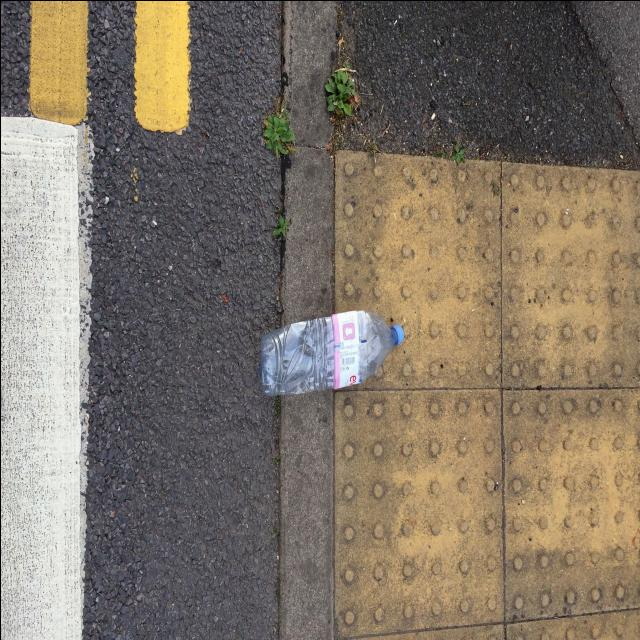Clear plastic bottle: (258, 310, 403, 395)
Plastic bottle cap: (392, 324, 403, 343)
